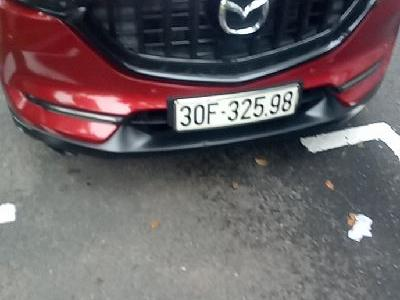lisence: (172, 85, 300, 132)
